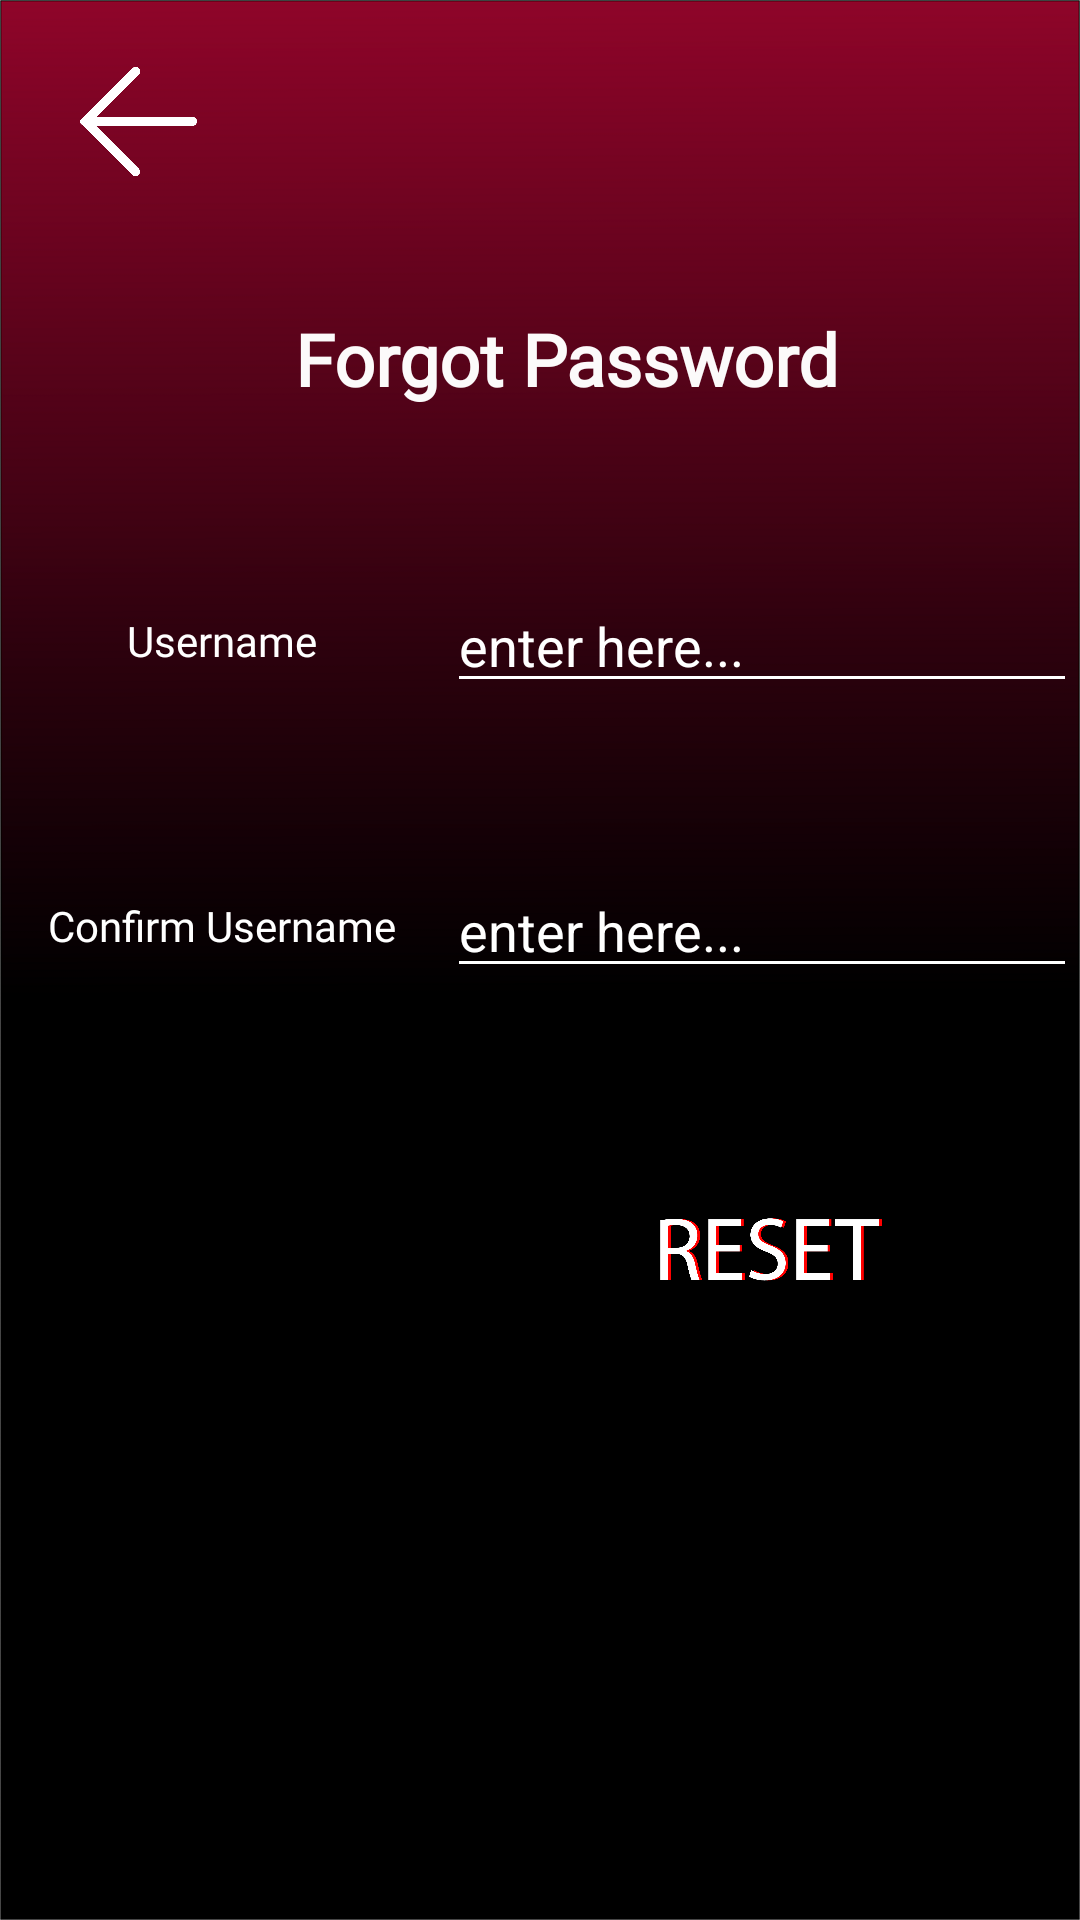

Icons on this 1080x1920 Android screen, each with the point to tap as [x,y]:
back: [138,121]
